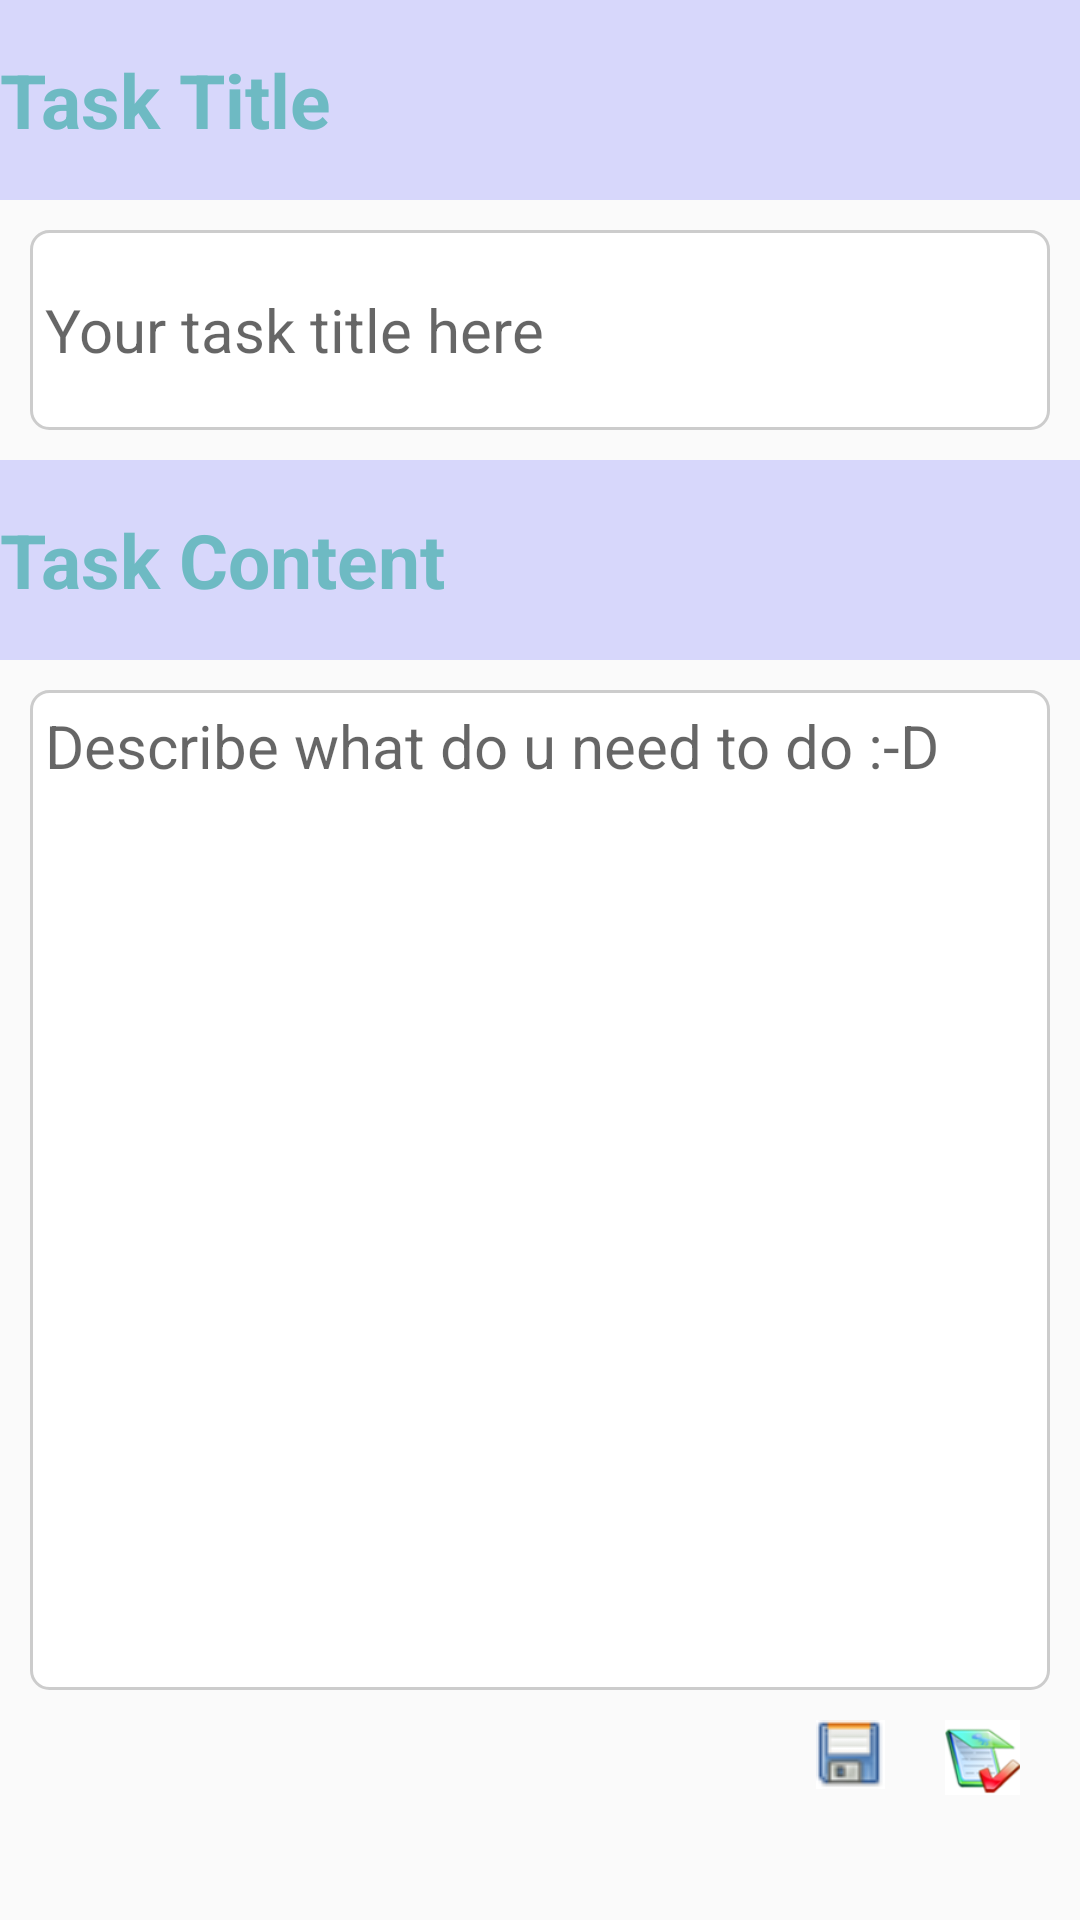

Icon click points for this 1080*1920 phone screenshot, format point (x, y):
complete: point (982, 1761)
save: point (849, 1754)
